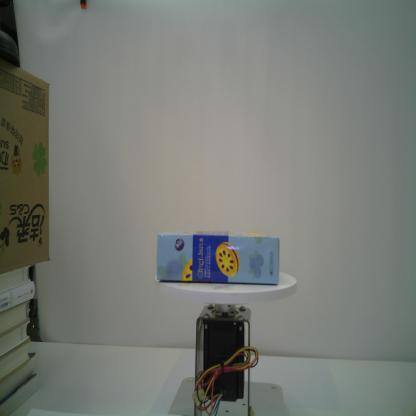Dessert: (157, 230, 280, 284)
